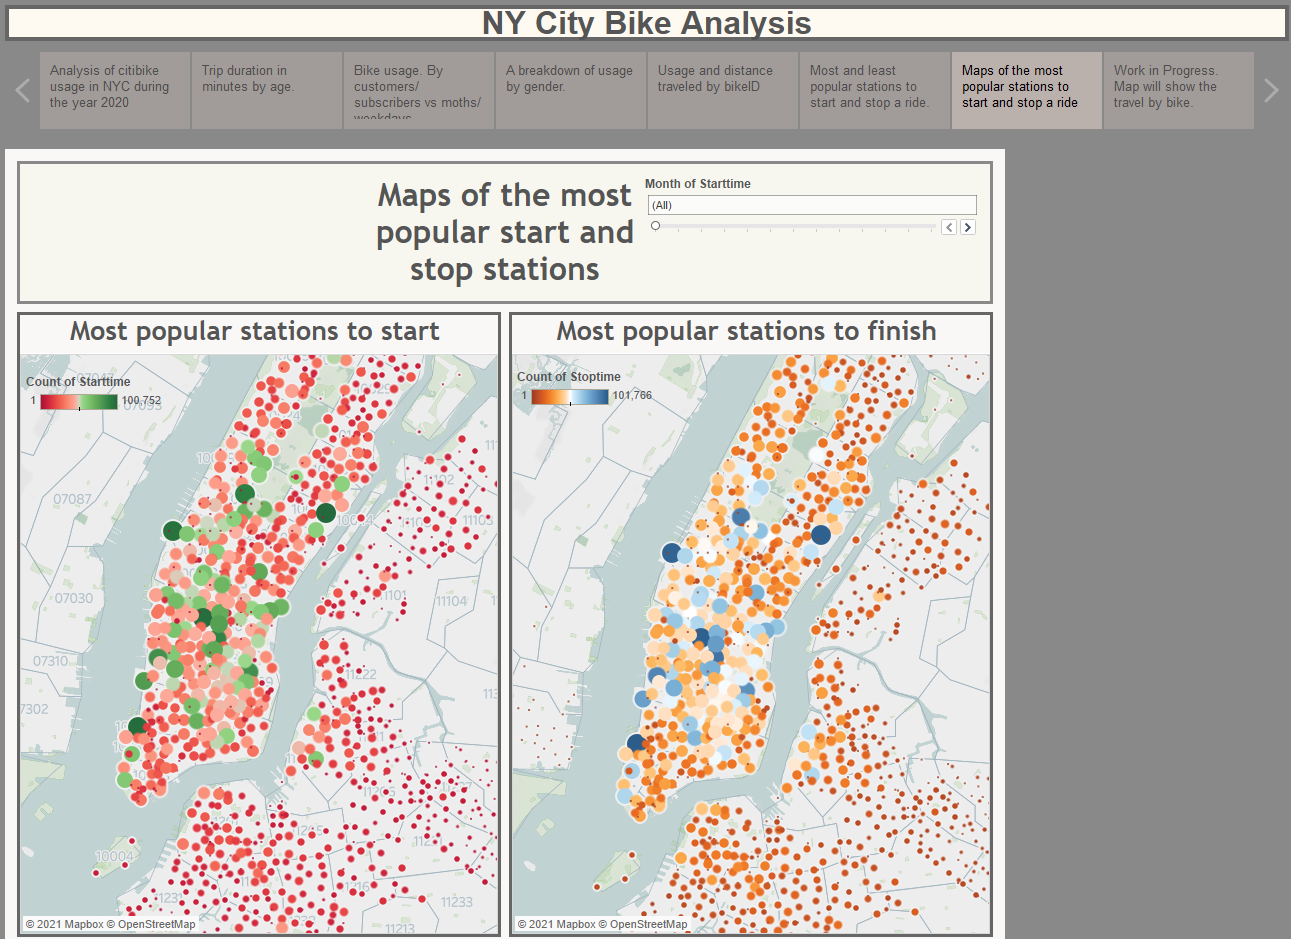

Layout of this report page (visuals, bound fields, positions):
{"tool":"tableau","page":{"name":"Maps Dash","canvas":[1000,800],"ordinal":2},"visuals":[{"type":"title","box":[8,8,984,151]},{"type":"filter","title":"1.7 Map Start","param":"[federated.1d6i2l30397zuh1gqeg1112rf6o0].[mn:starttime:ok]","box":[640,28,335,113]},{"type":"worksheet","title":"1.7 Map Start","mark":"Automatic","rows":["start station latitude"],"cols":["start station longitude"],"box":[8,159,492,633]},{"type":"worksheet","title":"1.7.1 Map Stop","mark":"Automatic","rows":["end station latitude"],"cols":["end station longitude"],"box":[500,159,492,633]},{"type":"legend","title":"1.7.1 Map Stop","param":"[federated.1d6i2l30397zuh1gqeg1112rf6o0].[cnt:stoptime:qk]","box":[512,221,140,76]},{"type":"legend","title":"1.7 Map Start","param":"[federated.1d6i2l30397zuh1gqeg1112rf6o0].[cnt:starttime:qk]","box":[21,226,140,76]}]}

Visuals, with their boxes on the page's 1000x800 design canvas (x1, y1, x2, y2). These are canvas units, not pixel positions in the 1291x939 screenshot, which may show the page scaled, cropped or inside an application window:
title: rect(8, 8, 992, 159)
"1.7 Map Start" filter: rect(640, 28, 975, 141)
"1.7 Map Start" worksheet: rect(8, 159, 500, 792)
"1.7.1 Map Stop" worksheet: rect(500, 159, 992, 792)
"1.7.1 Map Stop" legend: rect(512, 221, 652, 297)
"1.7 Map Start" legend: rect(21, 226, 161, 302)
